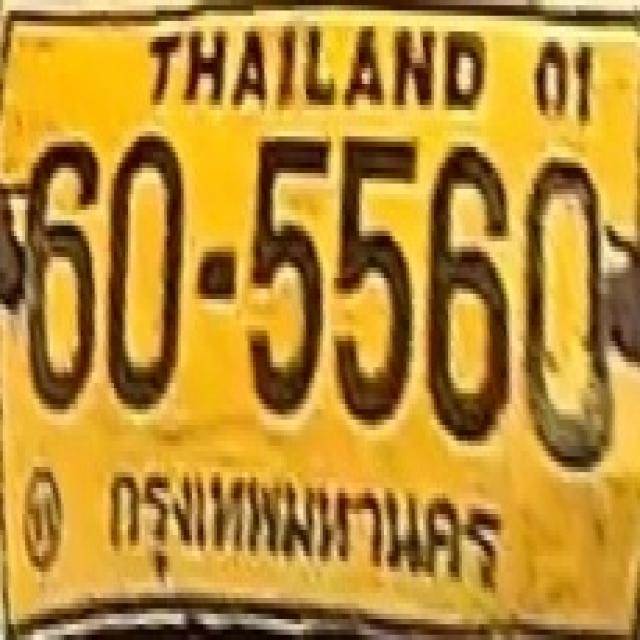0: (522, 152, 611, 472), (107, 131, 182, 404)
5: (333, 131, 416, 420), (246, 131, 330, 409)
6: (426, 142, 509, 440), (22, 136, 98, 410)
BKK: (100, 450, 513, 612)
